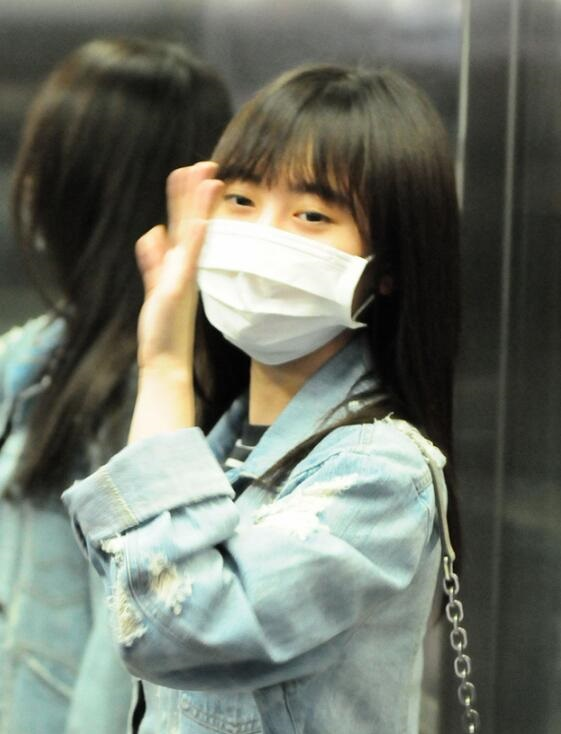face_mask: (198, 124, 370, 362)
